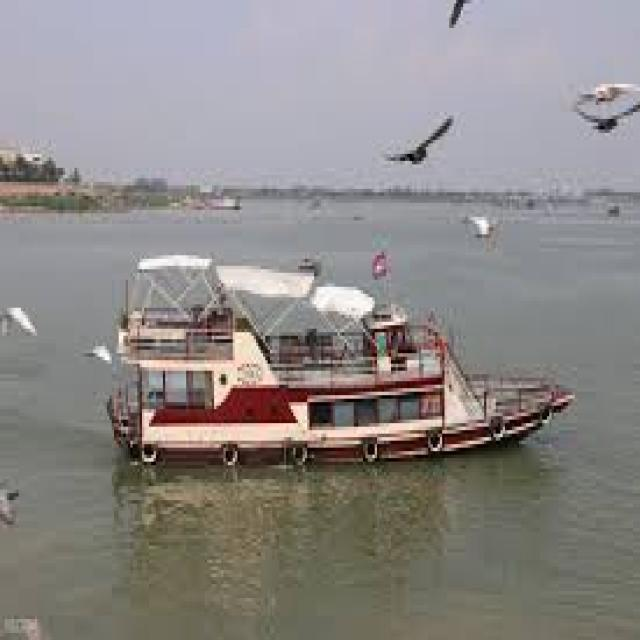houseboat: (117, 223, 561, 485)
